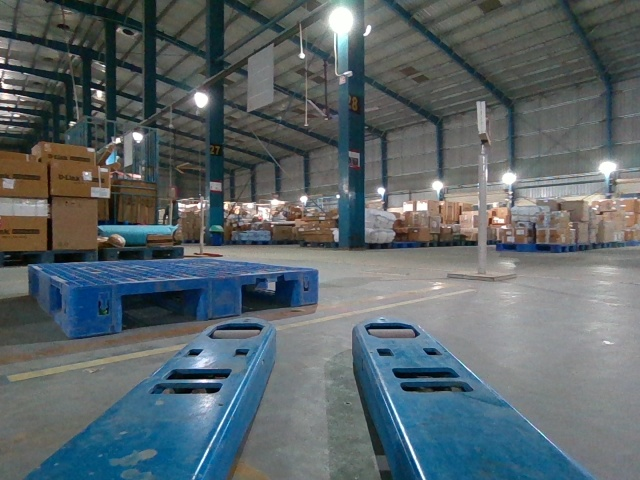block: (70, 284, 122, 333), (205, 275, 244, 318), (298, 270, 317, 307)
front: (73, 269, 319, 339)
hole pallet: (120, 282, 208, 331), (239, 276, 303, 313)
